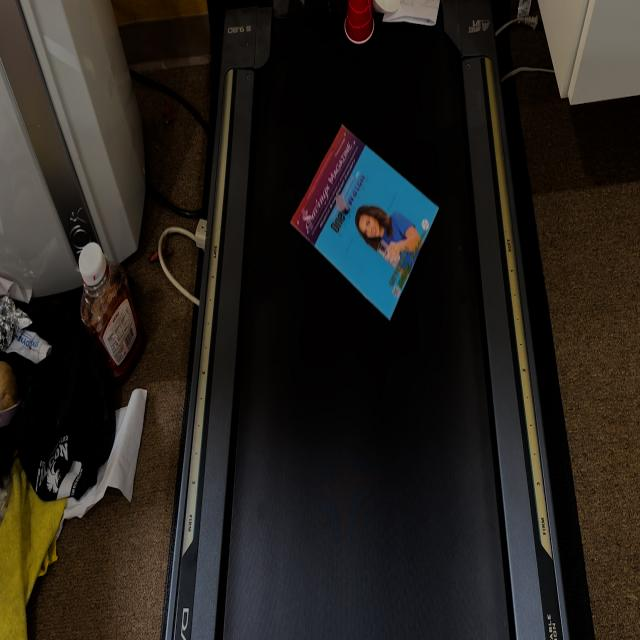Recycle: (288, 124, 441, 323)
